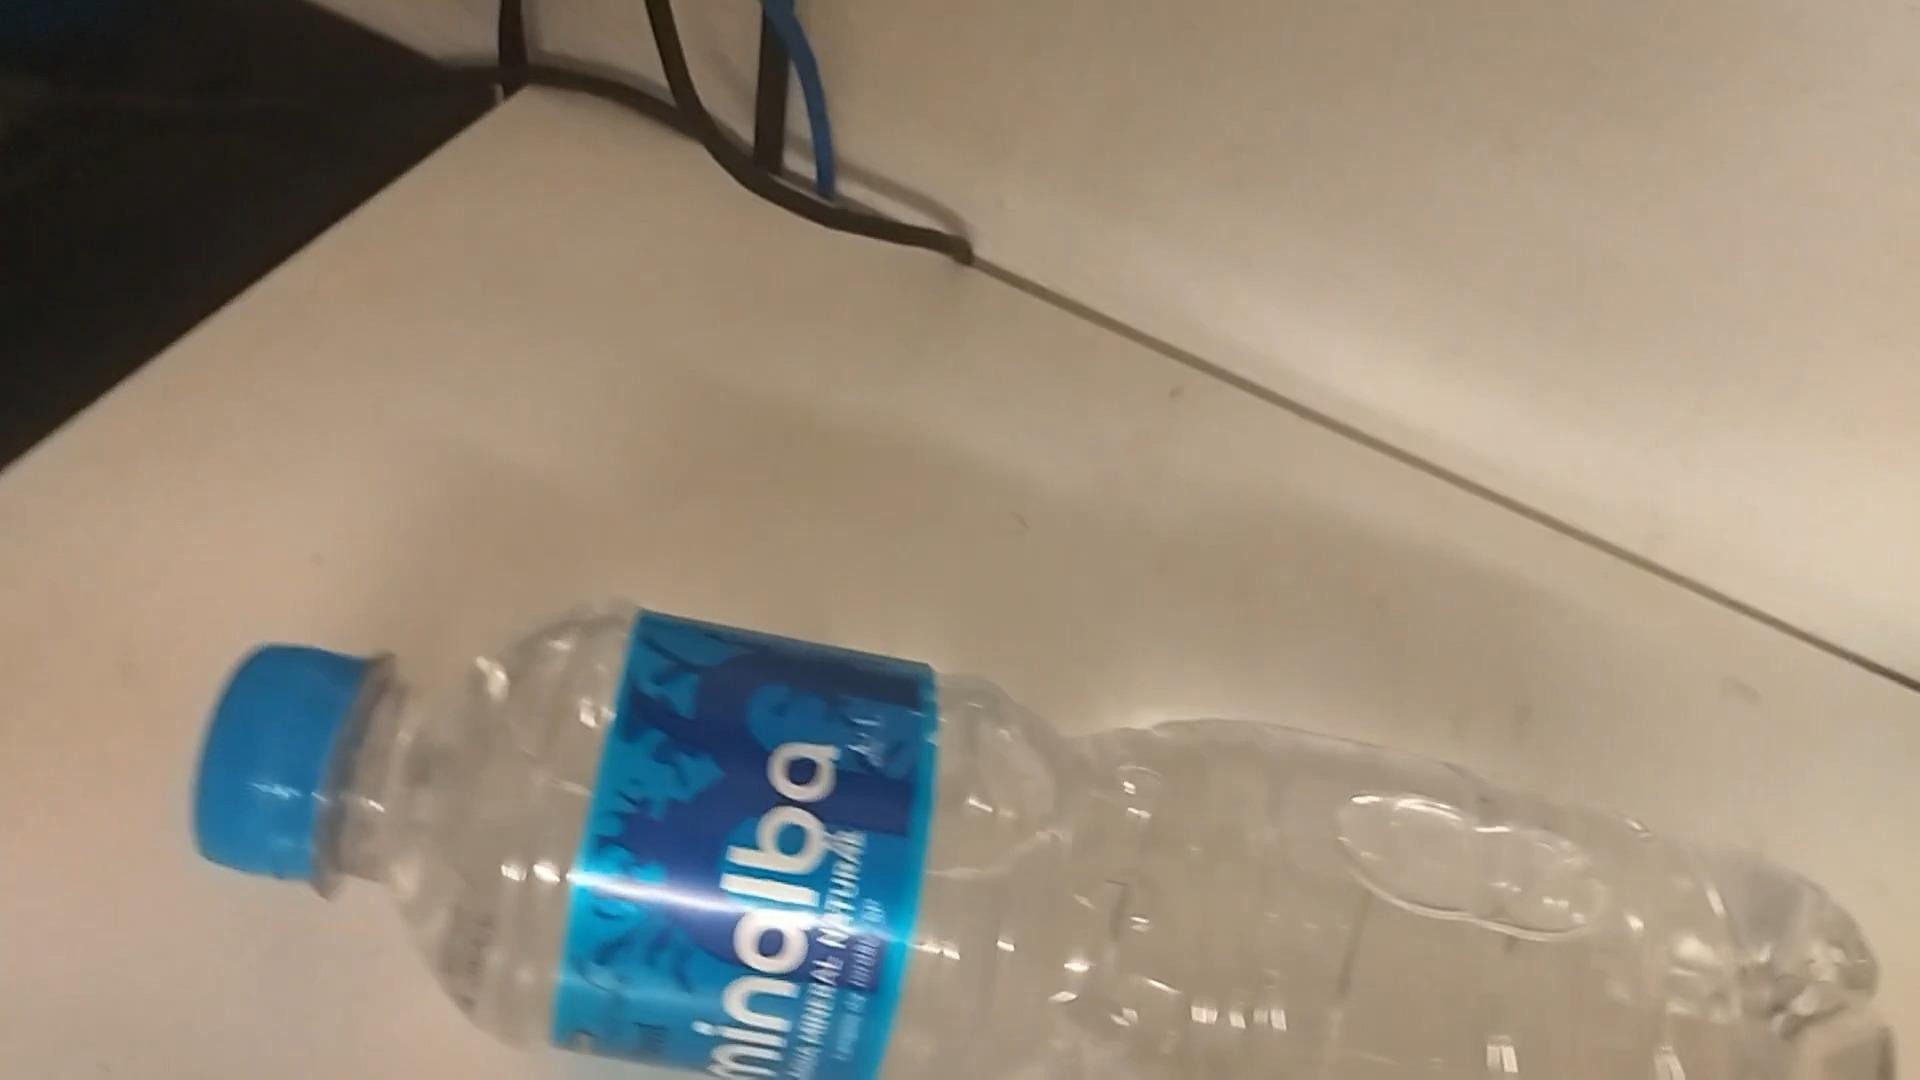agua: (208, 612, 1876, 1077)
